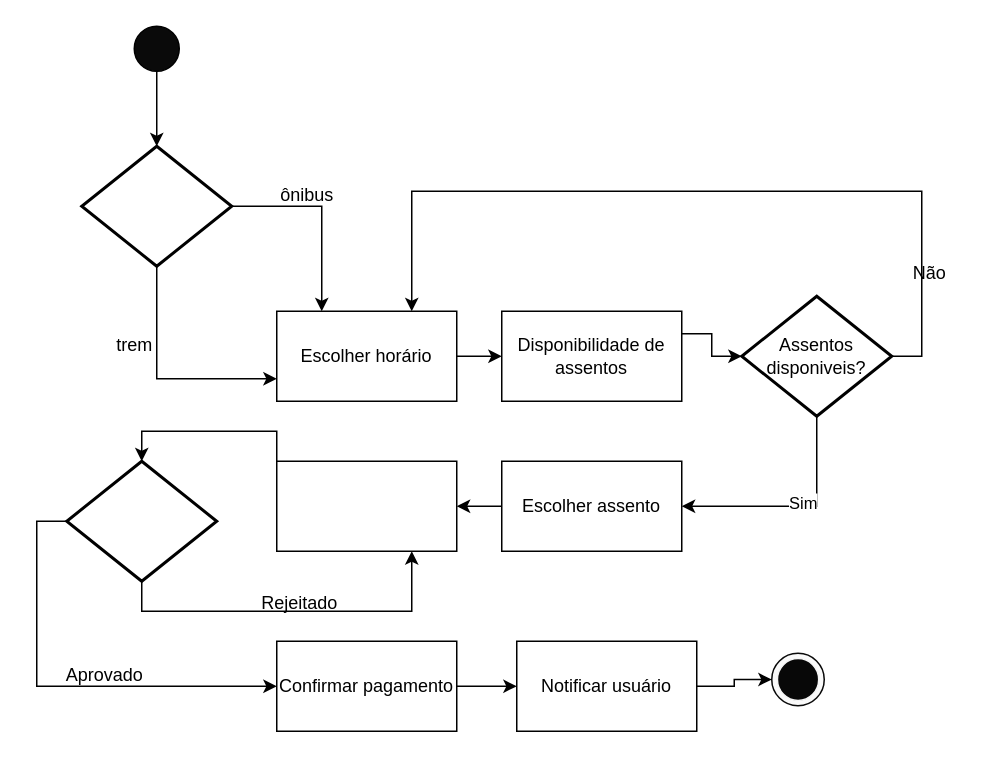
The diagram is 993 pixels wide and 758 high, and some of its shapes have lost their labels. Each missing label, with the centre of its shape:
"Efetuar pagamento" goes at [366,505].
"Meio de Transporte" goes at [156,205].
"Verificar pagamento" goes at [141,520].
